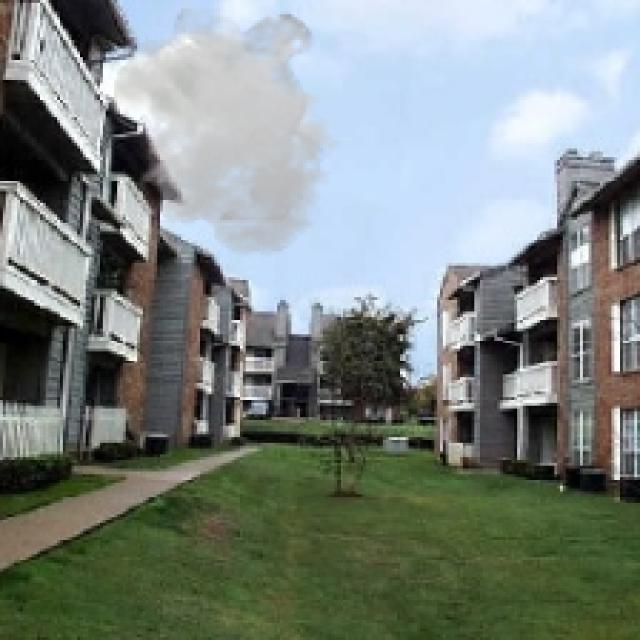smoke: (114, 9, 354, 257)
